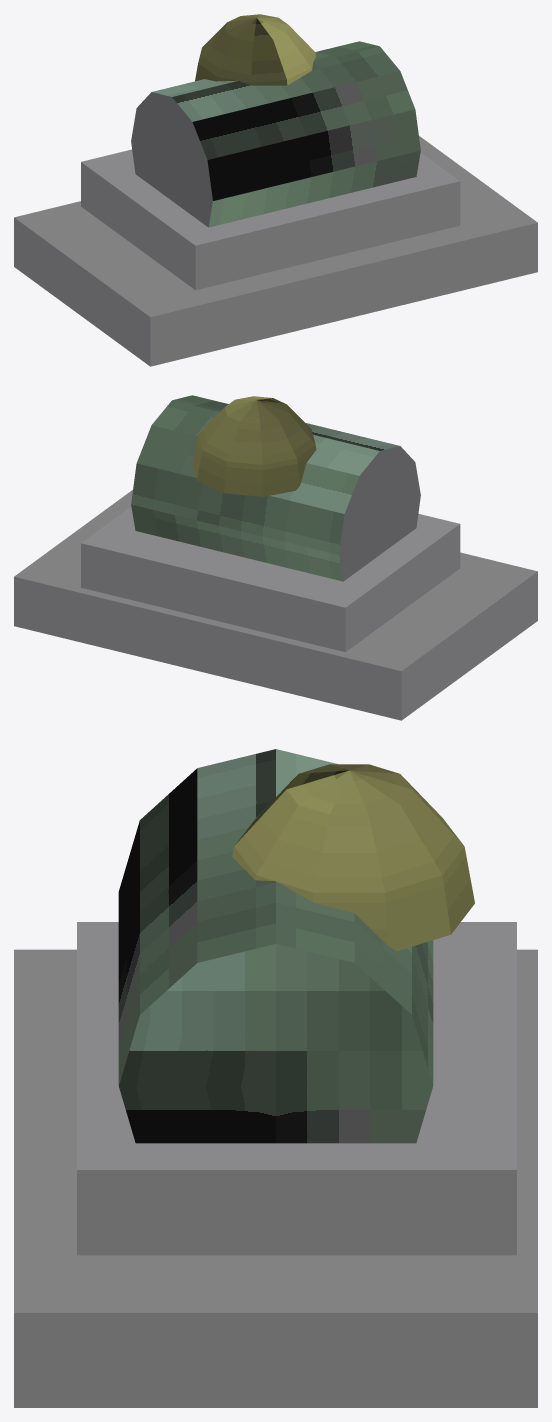
Rendered from Building_TrapIED_AntigrainWarhead.glb.
3 views of the same model, one above another, from view 1: azimuth 30°, elevation 25°; view 2: azimuth 150°, elevation 25°; view 3: azimuth 270°, elevation 25° (orthographic). The views are drawn at different scales.
Visible parts, largest first — view 1: TrapIED_AntigrainWarhead; view 2: TrapIED_AntigrainWarhead; view 3: TrapIED_AntigrainWarhead.
Boxes of the visible parts, x1,y1,x2,y2 form: TrapIED_AntigrainWarhead: [14, 14, 537, 366]; TrapIED_AntigrainWarhead: [14, 395, 537, 720]; TrapIED_AntigrainWarhead: [14, 749, 537, 1407].
Bounding box in the file's own units: 0.82 × 0.48 × 0.5.
Materials: 1 (1 with a texture image).
